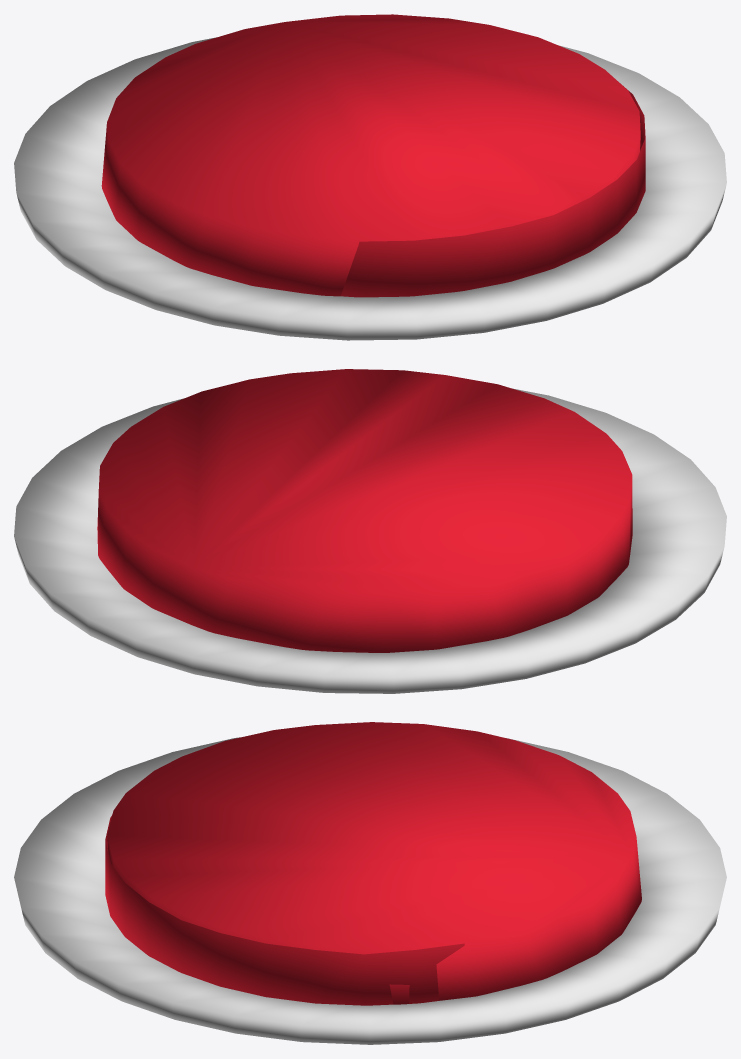
Rendered from tortilla.fbx.
3 views of the same model, one above another, from view 1: azimuth 30°, elevation 25°; view 2: azimuth 150°, elevation 25°; view 3: azimuth 270°, elevation 25° (orthographic).
Visible parts, largest first — view 1: tortilla; view 2: tortilla; view 3: tortilla.
Part boxes in pixels (box(x1,y1,x2,y2)): tortilla: box(14, 14, 726, 340); tortilla: box(14, 369, 726, 693); tortilla: box(14, 722, 726, 1044).
Size of the model in its own units: 178 by 26.94 by 178.
